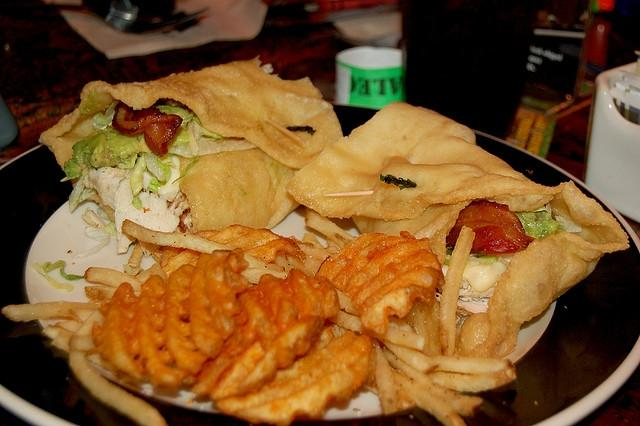lettuce: (81, 133, 106, 154)
